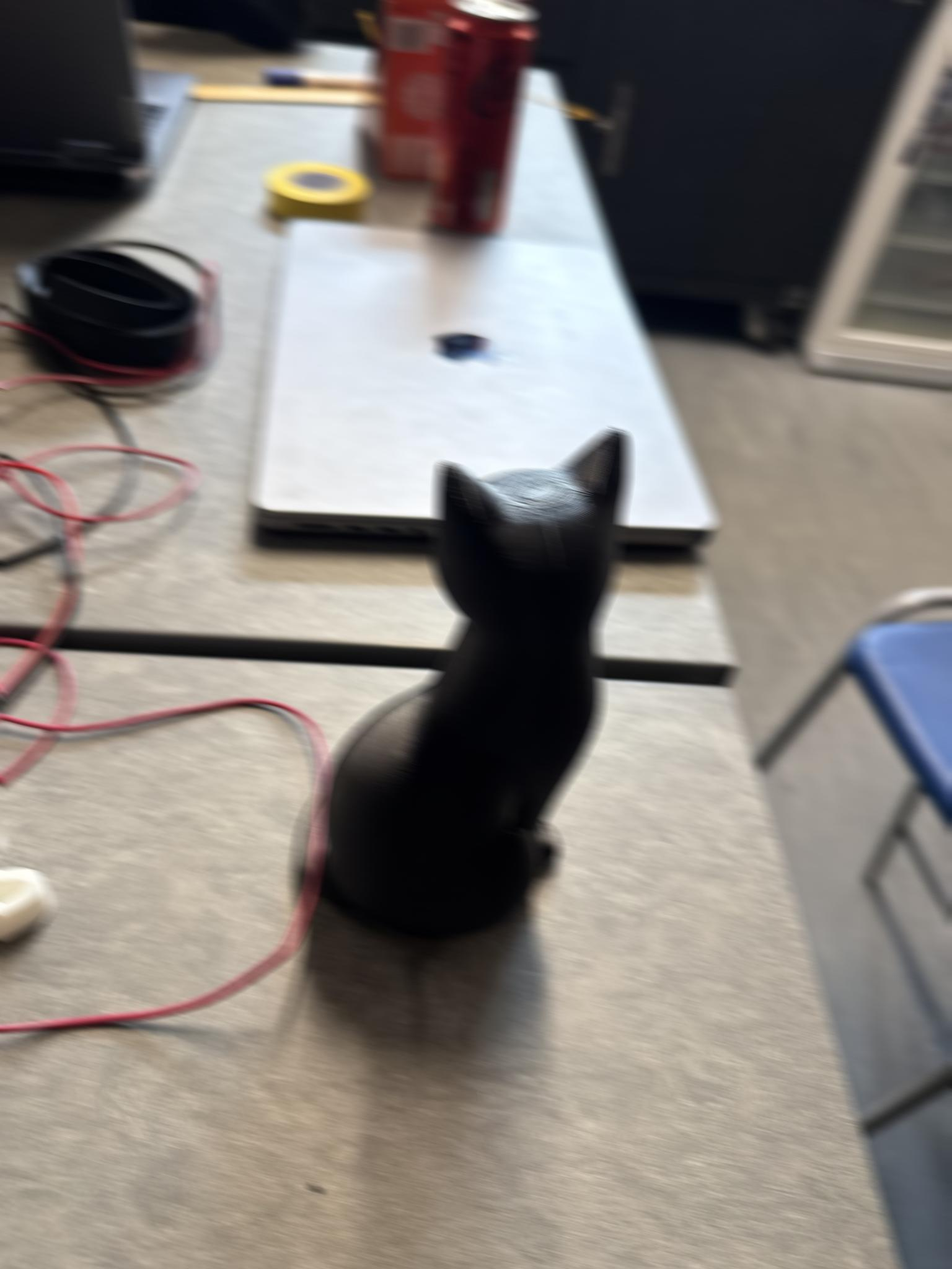cat: (317, 429, 629, 936)
